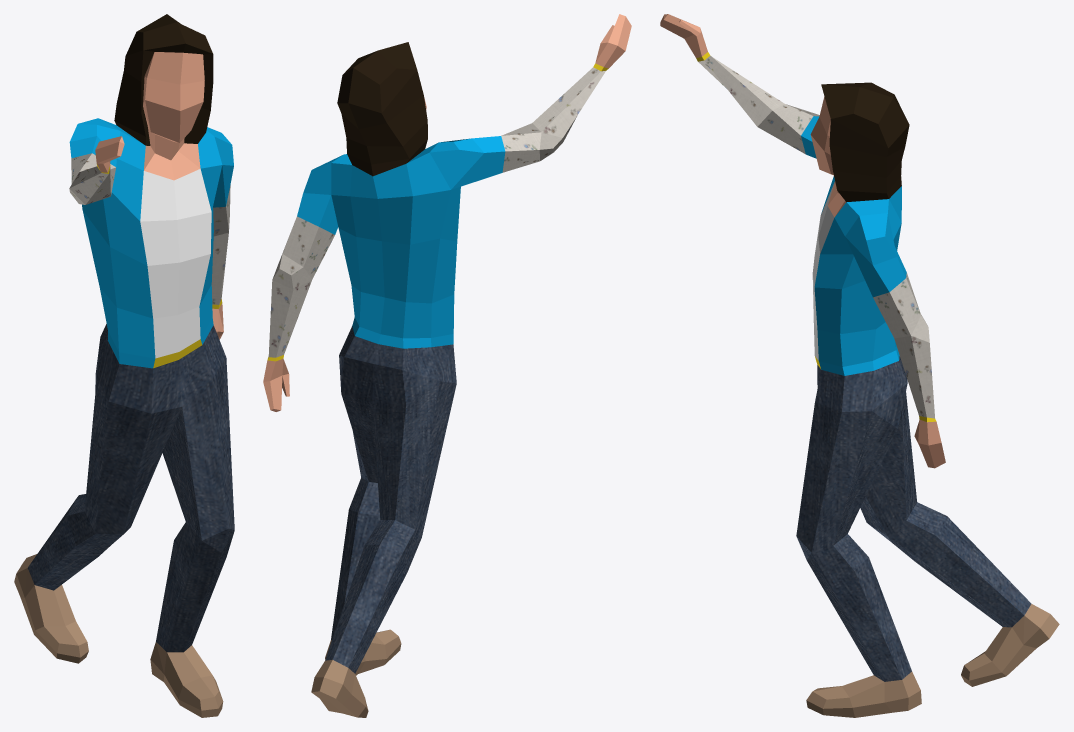
Rendered from SpringGirl.003.glb.
The picture shows the model from 3 angles, left to right: view 1: azimuth 30°, elevation 25°; view 2: azimuth 150°, elevation 25°; view 3: azimuth 270°, elevation 25°; orthographic projection. The views are drawn at different scales.
Visible parts, largest first — view 1: SpringGirl.003; view 2: SpringGirl.003; view 3: SpringGirl.003.
Boxes of the visible parts, bbox=[...] form: SpringGirl.003: bbox=[14, 14, 234, 717]; SpringGirl.003: bbox=[263, 14, 631, 717]; SpringGirl.003: bbox=[660, 14, 1059, 717].
Bounding box in the file's own units: 0.4686 × 1.17 × 0.6858.
Materials: 1 (1 with a texture image).
